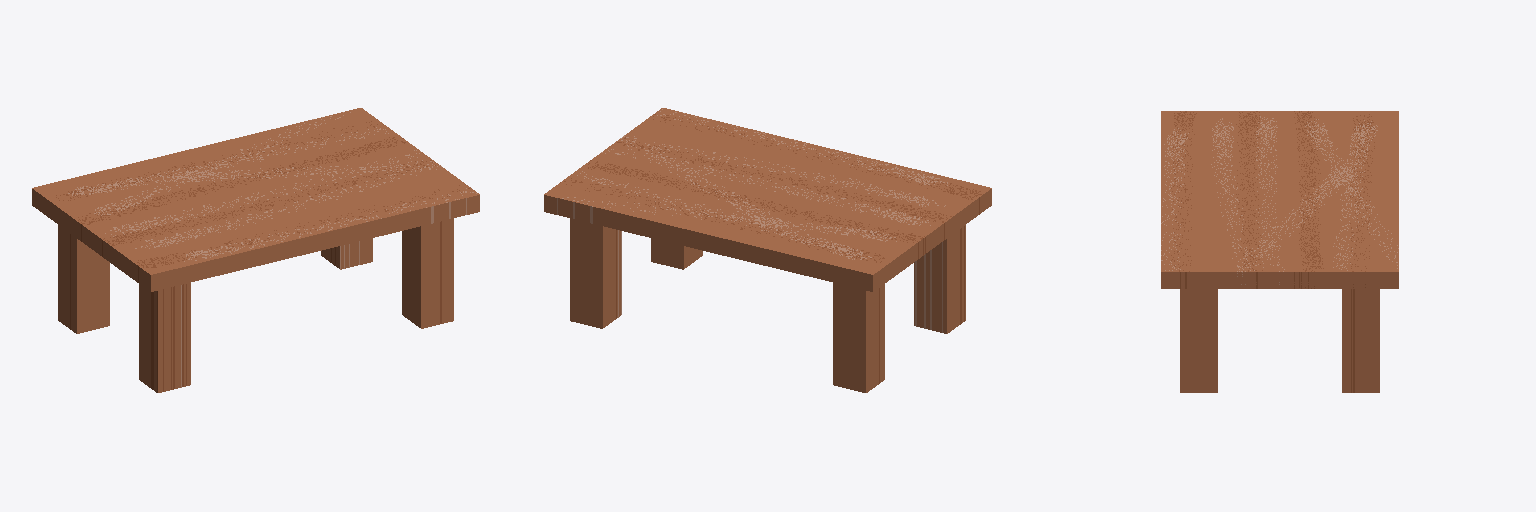
3 views of the same model, side by side, from view 1: azimuth 30°, elevation 25°; view 2: azimuth 150°, elevation 25°; view 3: azimuth 270°, elevation 25° (orthographic).
Visible parts, largest first — view 1: Cube; view 2: Cube; view 3: Cube.
Boxes of the visible parts, x1=… form: Cube: x1=32, y1=108, x2=479, y2=392; Cube: x1=544, y1=108, x2=991, y2=392; Cube: x1=1161, y1=111, x2=1398, y2=392.
Bounding box in the file's own units: 4 × 1.5 × 2.5.
Materials: 1 (1 with a texture image).